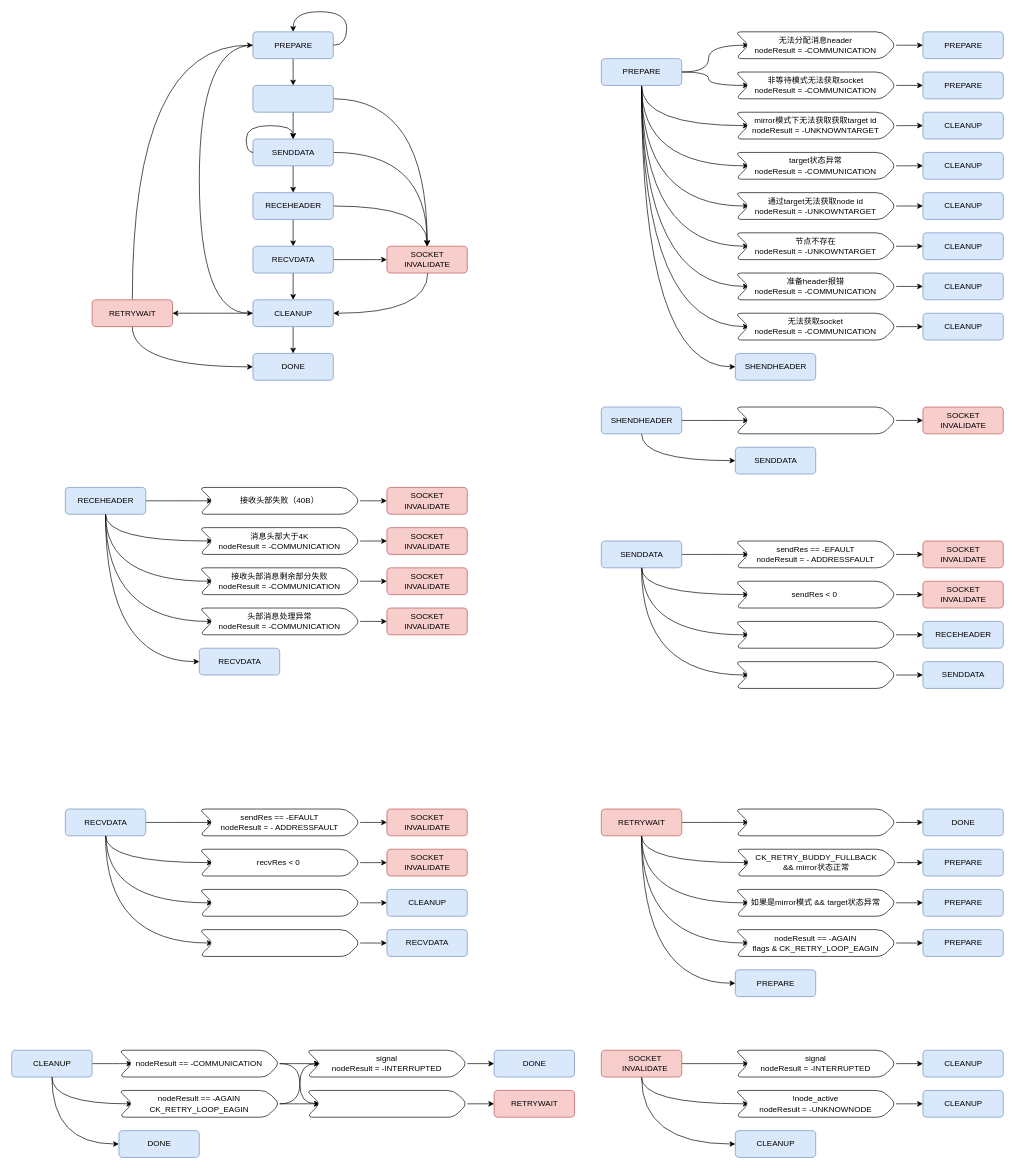
This 1015x1169 diagram has some shape labels left out. The centre of each missing label's shape, as x and y in pixels:
recvRes == 0: the point at 279,902
recvRes > 0: the point at 279,942
retry_enable && (!max_retry_num || retry_num < max_retry_num): the point at 386,1103
SENDHEADER: the point at 292,98
sendRes == 0: the point at 815,634
sendRes > 0: the point at 815,674
无法获取target并且不存在mirror || target状态异常: the point at 815,822
返回值小于header大小: the point at 815,420
